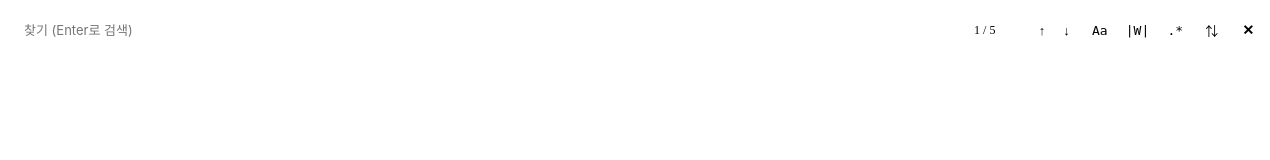
SearchBar › Search Options › should show regex error for invalid regex
Click the button named "정규식 사용": (1175, 30) [1159,18,1191,42]
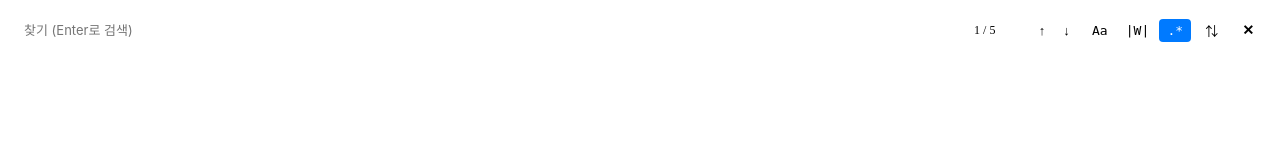
In the field with placeholder "찾기 (Enter로 검색)": (485, 30) [16,16,955,44], type "[invalid"
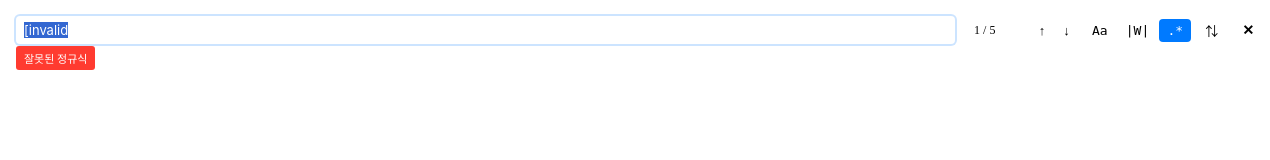
Expected: the text "잘못된 정규식" is shown, [16,46,96,70]
